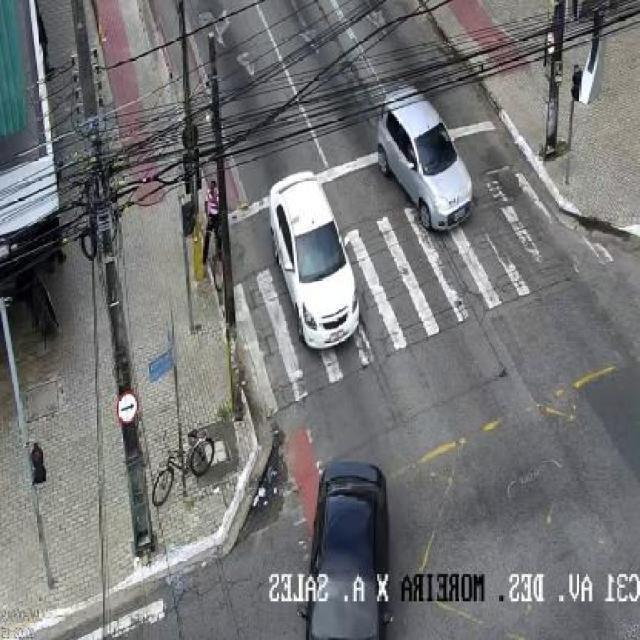Car: (294, 458, 398, 640), (267, 168, 362, 352), (374, 86, 474, 234)
Cycle: (150, 428, 218, 509)
